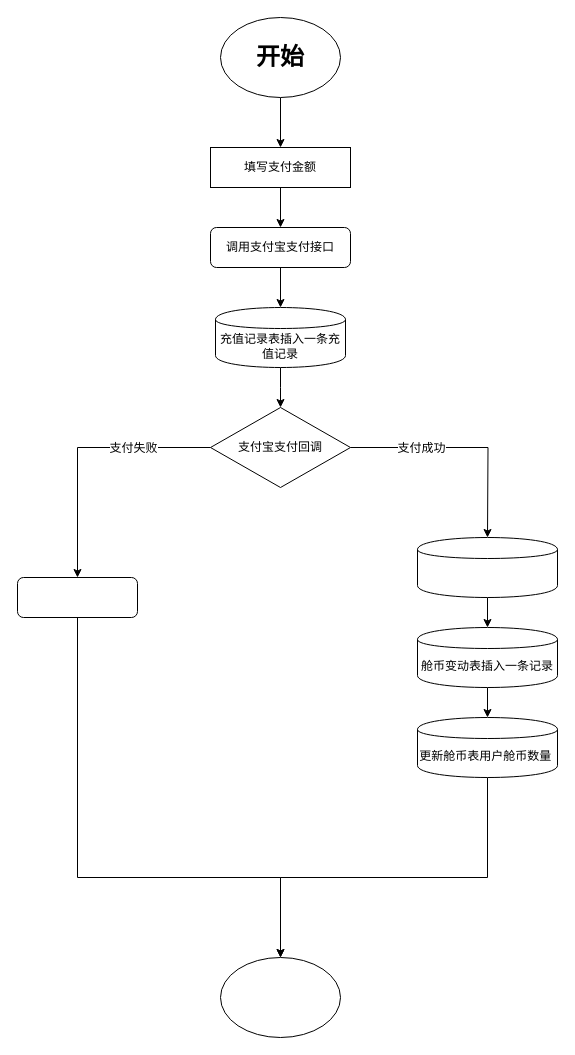
Image size: 575x1055. Some labels were removed from this diagram. The shapes that lost their labels are listed below. From the top down, each one's centre as x and y in pixels, then its label:
[487,567]: 更新充值记录表的支付状态
[77,597]: 返回前端失败信息
[280,997]: 结束
